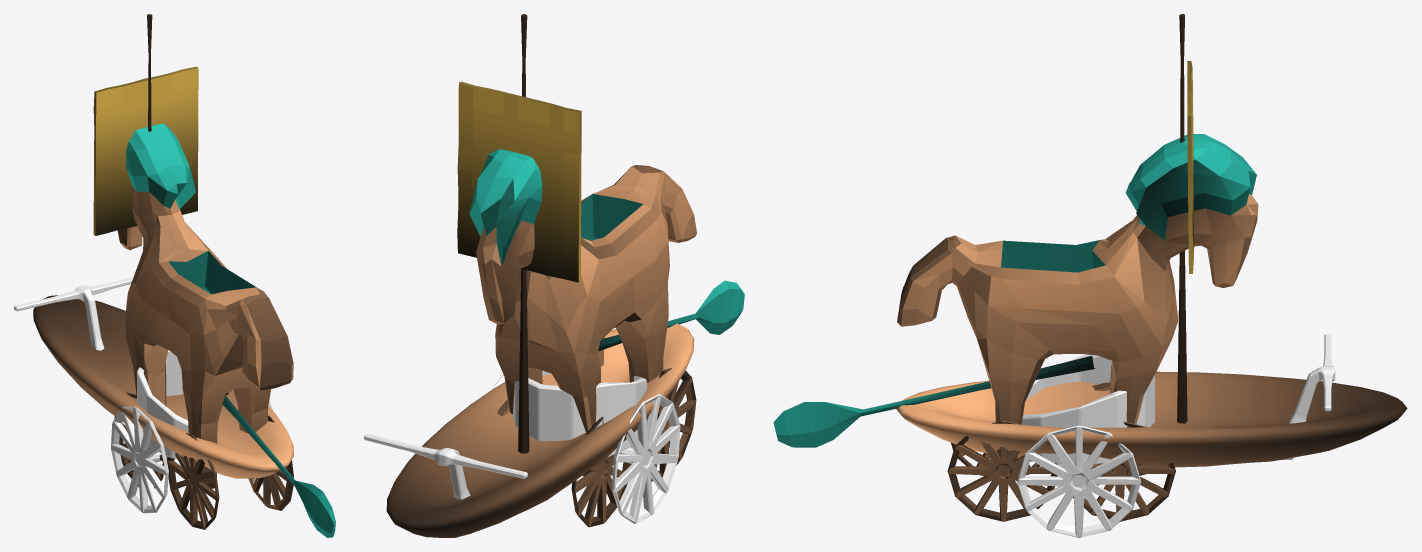
The model's file is boater.glb.
The picture shows the model from 3 angles, left to right: view 1: azimuth 30°, elevation 25°; view 2: azimuth 150°, elevation 25°; view 3: azimuth 270°, elevation 25°; orthographic projection. The views are drawn at different scales.
Parts seen in each view (by area): view 1: horse_body, Boat_body, Boat_sail, chariot_wheel_left, horse_wheel_b_l, Boat_paddle_front, chariot_body, chariot_body_neck, horse_wheel_b_r, Boat_mast; view 2: horse_body, Boat_body, Boat_sail, chariot_wheel_left, chariot_body, horse_wheel_f_l, Boat_paddle_front, chariot_body_neck, Boat_mast, horse_wheel_b_l; view 3: horse_body, Boat_body, chariot_wheel_right, Boat_paddle_front, chariot_body, horse_wheel_b_r, Boat_mast, horse_wheel_f_r, chariot_body_neck, Boat_sail.
Boxes of the visible parts, left/top/right/bottom form: horse_body: left=117, top=123, right=293, bottom=488; Boat_body: left=33, top=295, right=293, bottom=478; Boat_sail: left=93, top=66, right=198, bottom=235; chariot_wheel_left: left=111, top=406, right=168, bottom=513; horse_wheel_b_l: left=167, top=433, right=219, bottom=529; Boat_paddle_front: left=222, top=395, right=335, bottom=537; chariot_body: left=137, top=350, right=188, bottom=458; chariot_body_neck: left=14, top=277, right=133, bottom=350; horse_wheel_b_r: left=248, top=415, right=293, bottom=510; Boat_mast: left=147, top=14, right=152, bottom=131; horse_body: left=469, top=149, right=696, bottom=476; Boat_body: left=386, top=323, right=694, bottom=537; Boat_sail: left=457, top=81, right=581, bottom=282; chariot_wheel_left: left=612, top=394, right=680, bottom=523; chariot_body: left=512, top=370, right=647, bottom=457; horse_wheel_f_l: left=571, top=417, right=631, bottom=527; Boat_paddle_front: left=598, top=280, right=744, bottom=351; chariot_body_neck: left=364, top=433, right=527, bottom=533; Boat_mast: left=518, top=14, right=529, bottom=453; horse_wheel_b_l: left=651, top=368, right=696, bottom=481; horse_body: left=897, top=134, right=1258, bottom=460; Boat_body: left=896, top=371, right=1407, bottom=467; chariot_wheel_right: left=1017, top=425, right=1141, bottom=537; Boat_paddle_front: left=773, top=355, right=1095, bottom=447; chariot_body: left=1021, top=354, right=1154, bottom=467; horse_wheel_b_r: left=947, top=420, right=1057, bottom=521; Boat_mast: left=1177, top=14, right=1187, bottom=423; horse_wheel_f_r: left=1064, top=421, right=1175, bottom=521; chariot_body_neck: left=1281, top=334, right=1335, bottom=459; Boat_sail: left=1187, top=61, right=1194, bottom=273.
Size of the model in its own units: 2.3 by 7.2 by 8.41.
Materials: 2 (1 with a texture image).
